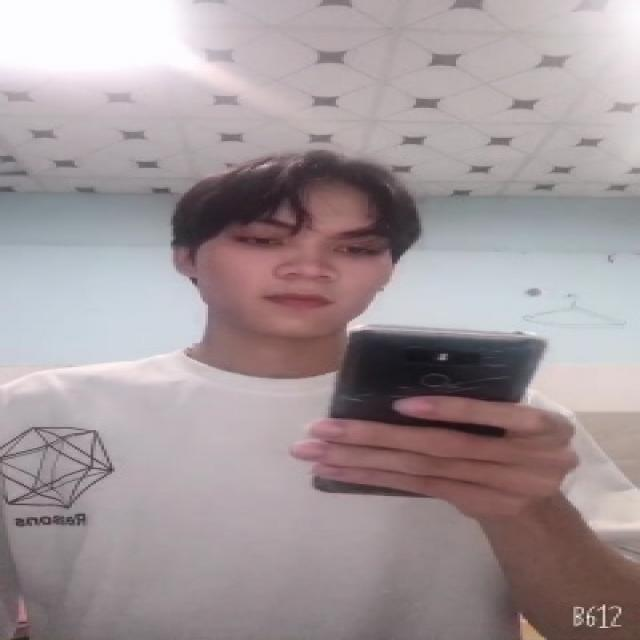Phone: (309, 322, 550, 498)
